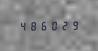eight: (27, 20, 36, 31)
four: (17, 20, 26, 31)
nine: (68, 19, 77, 30)
six: (38, 20, 47, 31)
two: (58, 19, 67, 30)
zero: (48, 20, 57, 30)
